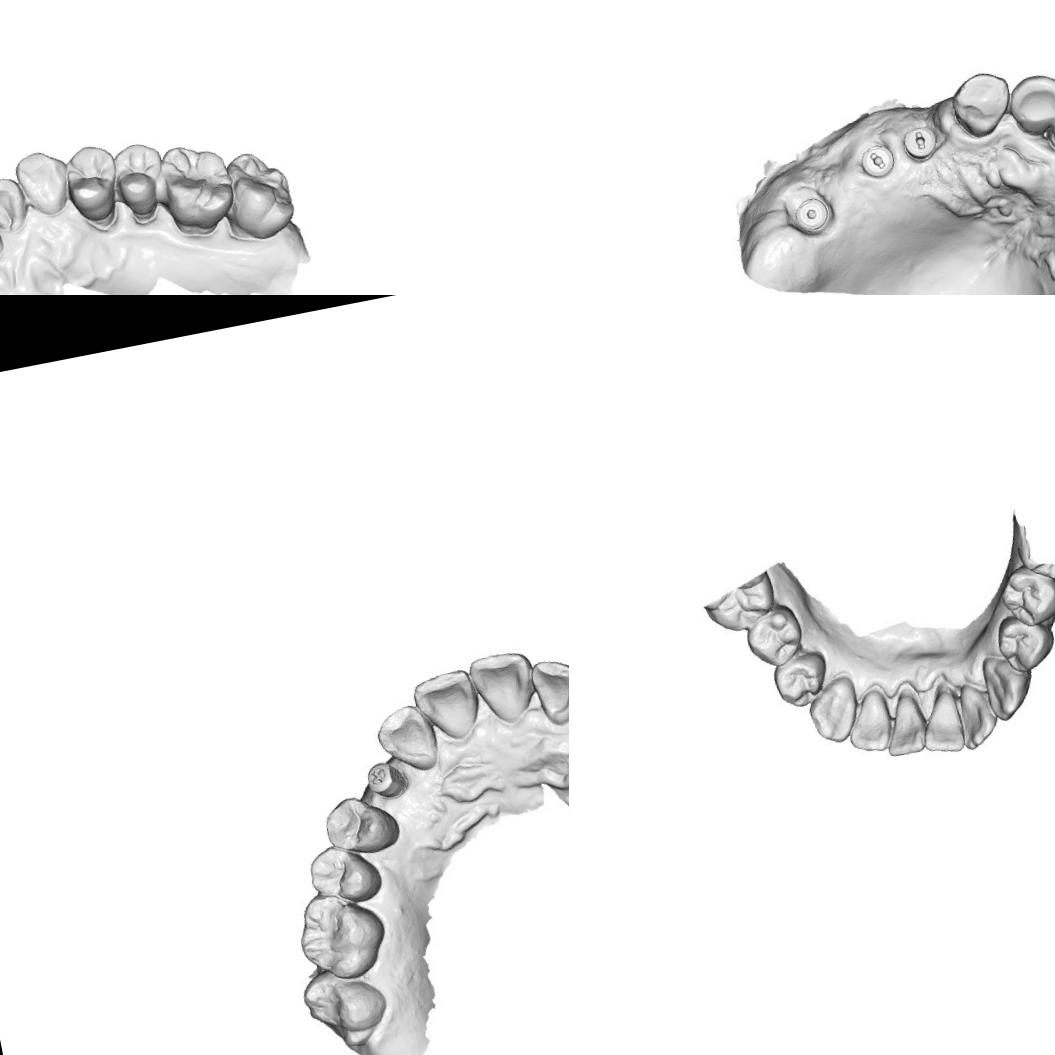canine: (7, 140, 81, 222), (941, 66, 1018, 142), (804, 678, 861, 748), (980, 654, 1035, 721)
implant: (782, 191, 832, 238)
implant_minus: (897, 116, 942, 165), (857, 139, 897, 182)
implant_plus: (364, 757, 408, 798)
incisor: (463, 644, 540, 728), (409, 664, 484, 744), (371, 700, 444, 777), (874, 684, 932, 760), (998, 65, 1055, 137), (914, 684, 968, 756), (841, 686, 894, 754), (528, 650, 569, 726), (955, 684, 996, 752), (0, 170, 33, 240)
molar: (152, 132, 241, 236), (213, 142, 300, 248), (292, 888, 388, 978), (299, 965, 393, 1052)
premolar: (57, 137, 128, 230), (314, 789, 402, 861), (107, 136, 174, 219), (305, 840, 382, 910), (740, 604, 805, 671), (765, 650, 834, 713), (990, 609, 1055, 674), (997, 557, 1055, 628)
